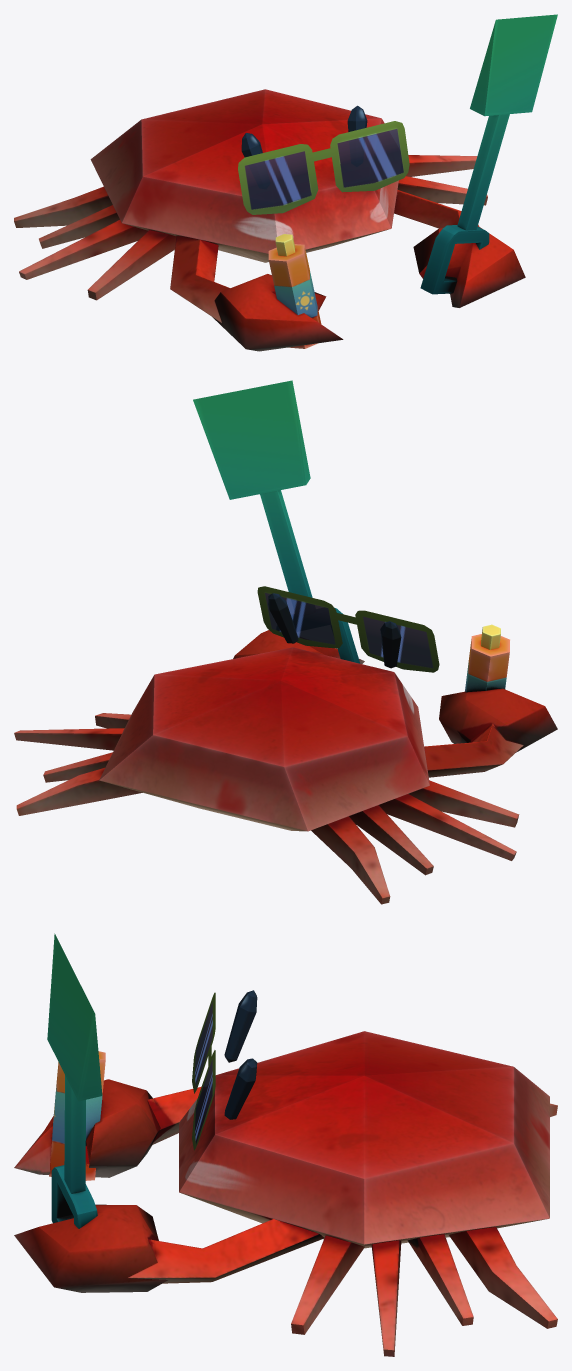
The picture shows the model from 3 angles, top to bottom: view 1: azimuth 30°, elevation 25°; view 2: azimuth 150°, elevation 25°; view 3: azimuth 270°, elevation 25°; orthographic projection. The views are drawn at different scales.
Visible parts, largest first — view 1: low_poly_crab; view 2: low_poly_crab; view 3: low_poly_crab.
Part boxes in pixels (bbox=[...]): low_poly_crab: bbox=[14, 14, 557, 351]; low_poly_crab: bbox=[14, 380, 557, 904]; low_poly_crab: bbox=[14, 933, 557, 1356].
Size of the model in its own units: 14.86 by 8.75 by 11.69.
1 material, 1 textured.
